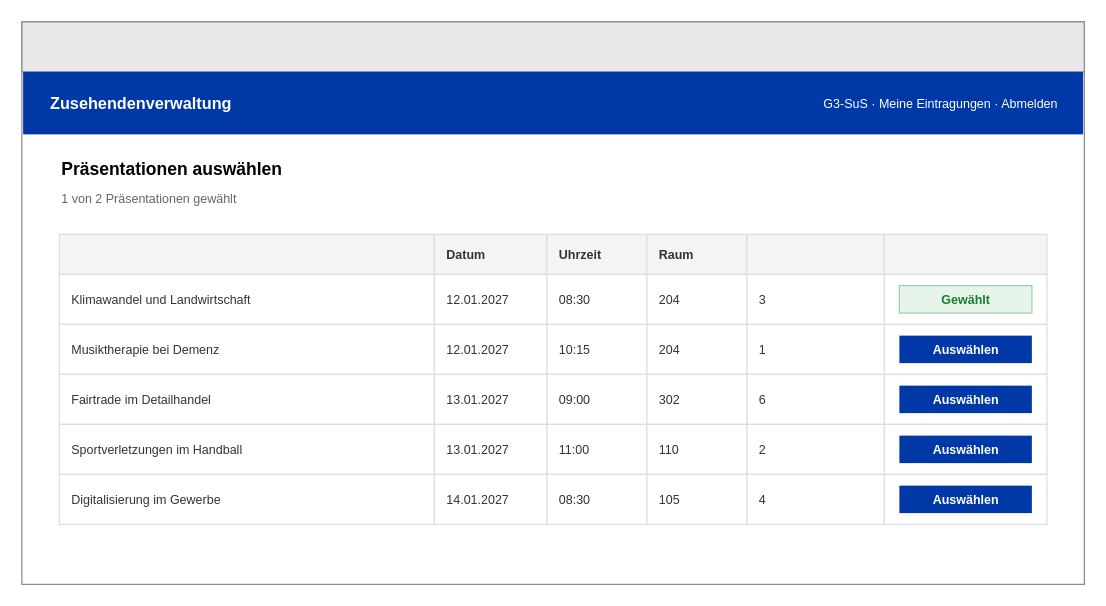
This 1106x606 diagram has some shape labels left out. Here are the shapes that lost their labels. From the top down, the centre of each, then its label:
point (552, 46): UI-Mockup 2: Präsentationen auswählen
point (246, 253): Thema
point (815, 253): Freie Plätze
point (965, 253): Aktion
